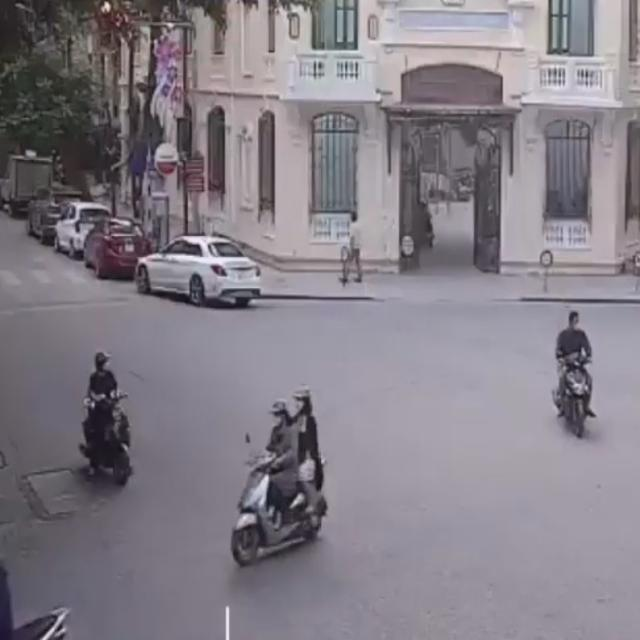car: (133, 229, 263, 314), (83, 216, 149, 283), (55, 200, 109, 260)
motorbike: (221, 387, 332, 568), (67, 346, 136, 494), (538, 300, 602, 441)
